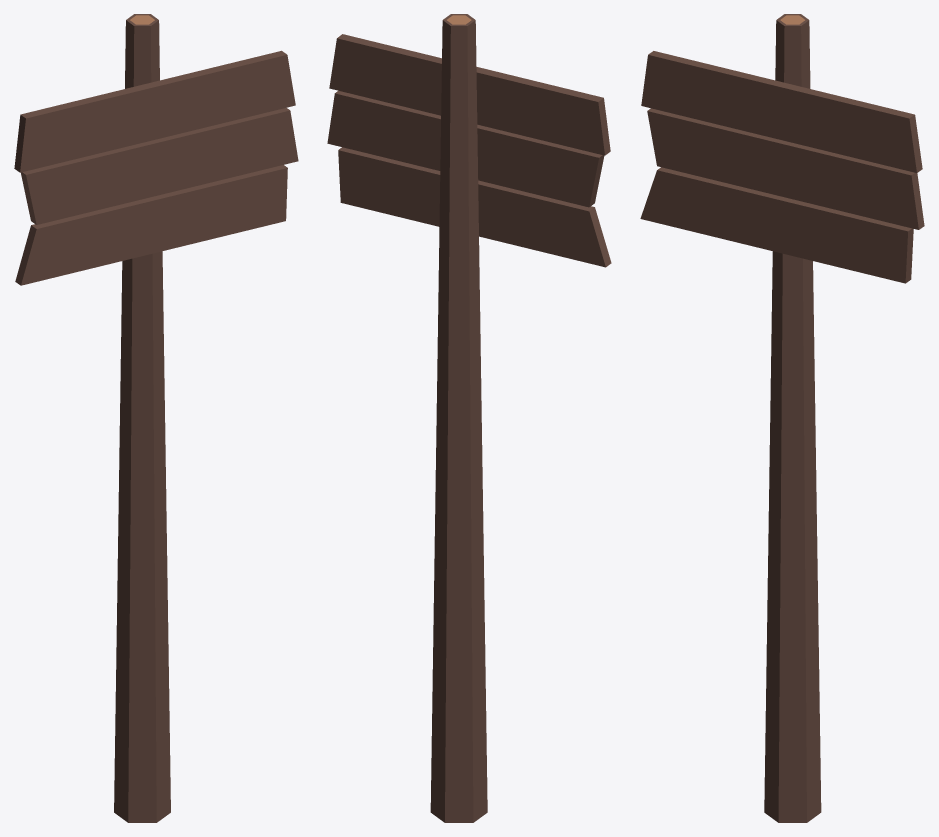
The model's file is GuideSigns_02.fbx.
The picture shows the model from 3 angles, left to right: view 1: azimuth 30°, elevation 25°; view 2: azimuth 150°, elevation 25°; view 3: azimuth 330°, elevation 25°; orthographic projection.
Visible parts, largest first — view 1: GuideSigns_02; view 2: GuideSigns_02; view 3: GuideSigns_02.
Boxes of the visible parts, x1=… form: GuideSigns_02: x1=14, y1=14, x2=298, y2=822; GuideSigns_02: x1=327, y1=14, x2=611, y2=822; GuideSigns_02: x1=640, y1=14, x2=924, y2=822.
Size of the model in its own units: 162 by 440 by 29.87.
